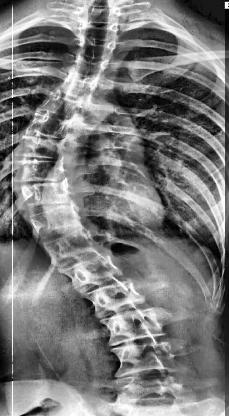Vertebrae: (100, 305, 166, 349), (76, 279, 150, 317), (64, 253, 126, 291), (110, 341, 176, 373), (119, 378, 186, 404), (25, 208, 86, 236), (17, 181, 81, 207), (11, 132, 64, 160), (25, 114, 76, 140), (13, 161, 71, 183), (47, 77, 100, 101), (42, 236, 98, 258), (36, 94, 82, 118), (63, 58, 110, 80), (73, 40, 121, 61), (78, 22, 121, 43)
